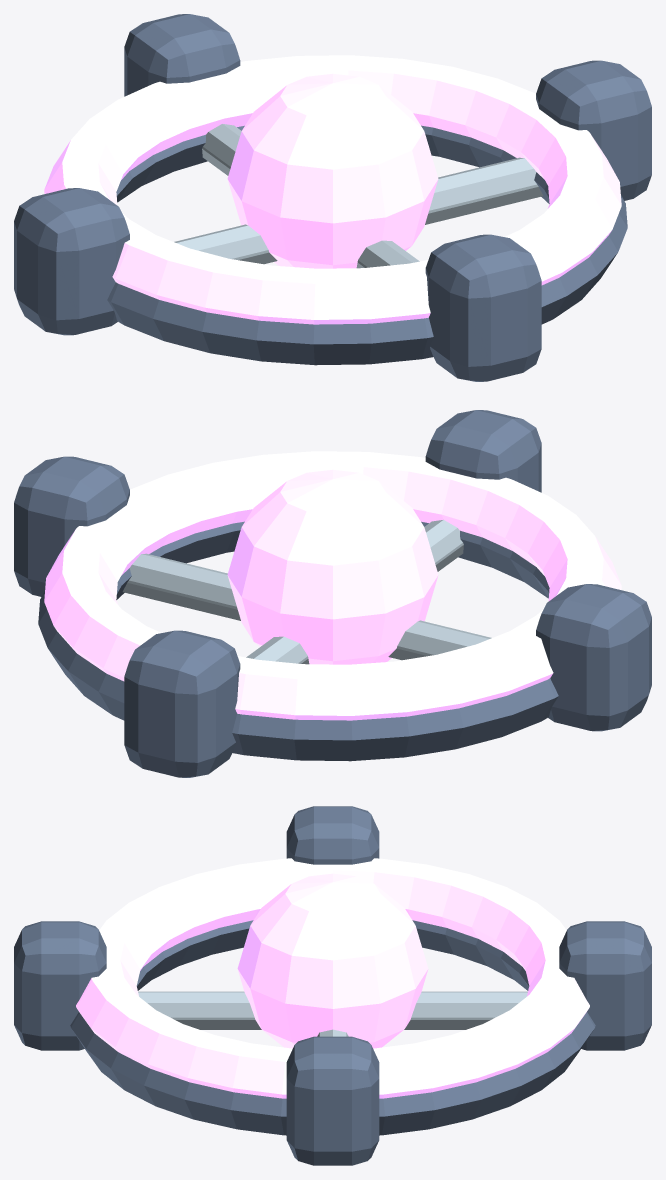
Rendered from nova.glb.
3 views of the same model, one above another, from view 1: azimuth 30°, elevation 25°; view 2: azimuth 150°, elevation 25°; view 3: azimuth 270°, elevation 25° (orthographic). The views are drawn at different scales.
Visible parts, largest first — view 1: Torus.001, Sphere, Torus, Cube.007, Cube.005, Cube.001, Cube.003, Cube, Cube.004, Cube.002, Cube.006; view 2: Torus.001, Sphere, Torus, Cube.003, Cube.005, Cube.001, Cube.007, Cube, Cube.004, Cube.006, Cube.002; view 3: Torus.001, Sphere, Torus, Cube.001, Cube.003, Cube.007, Cube.005, Cube.002, Cube.006.
Part boxes in pixels (x1,y1,x2,y2): Torus.001: (44,55,621,324); Sphere: (227,73,438,268); Torus: (107,125,627,365); Cube.007: (425,234,541,381); Cube.005: (14,188,129,335); Cube.001: (536,60,651,200); Cube.003: (124,14,240,96); Cube: (425,157,543,224); Cube.004: (174,224,277,264); Cube.002: (202,124,241,175); Cube.006: (356,240,419,268); Torus.001: (44,451,621,720); Sphere: (227,469,438,664); Torus: (38,521,558,761); Cube.003: (124,630,240,777); Cube.005: (536,584,651,731); Cube.001: (14,456,129,596); Cube.007: (425,410,541,492); Cube: (122,553,240,620); Cube.004: (388,620,491,660); Cube.006: (424,520,463,571); Cube.002: (246,636,309,664); Torus.001: (76,858,589,1098); Sphere: (237,873,428,1048); Torus: (70,920,595,1135); Cube.001: (286,1036,379,1165); Cube.003: (559,921,651,1050); Cube.007: (14,921,106,1050); Cube.005: (286,806,379,864); Cube.002: (404,991,527,1029); Cube.006: (138,991,261,1029).
Size of the model in its own units: 2.34 by 0.7 by 2.34.
